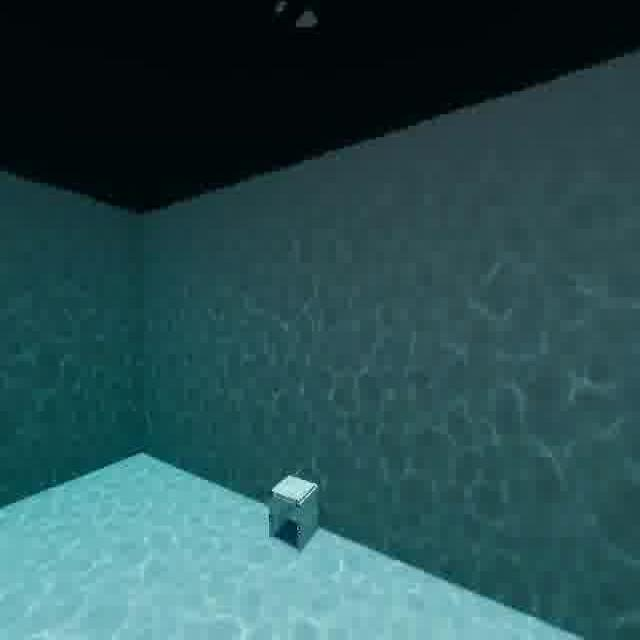Docking Station: (262, 459, 325, 556)
